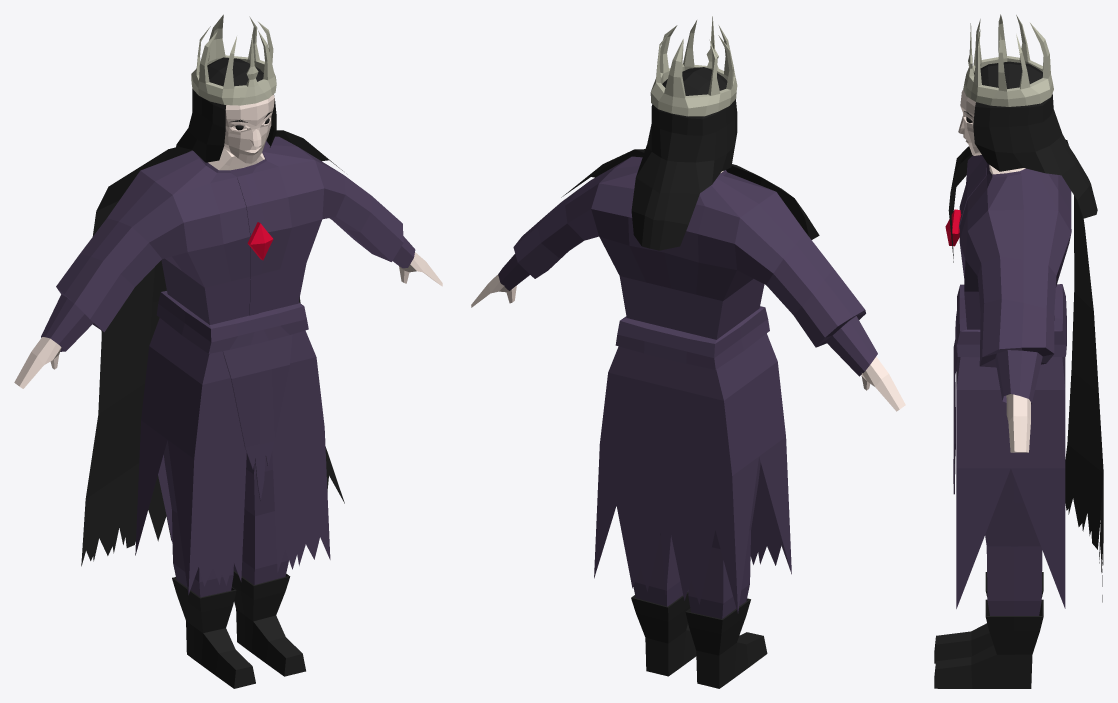
File: uncursed_king.fbx
The picture shows the model from 3 angles, left to right: view 1: azimuth 30°, elevation 25°; view 2: azimuth 150°, elevation 25°; view 3: azimuth 270°, elevation 25°; orthographic projection. The views are drawn at different scales.
Visible parts, largest first — view 1: uncursed_king; view 2: uncursed_king; view 3: uncursed_king.
Part boxes in pixels (x1=…): uncursed_king: x1=14, y1=14, x2=442, y2=688; uncursed_king: x1=471, y1=16, x2=905, y2=688; uncursed_king: x1=934, y1=14, x2=1103, y2=688.
Size of the model in its own units: 125 by 180 by 42.36.
